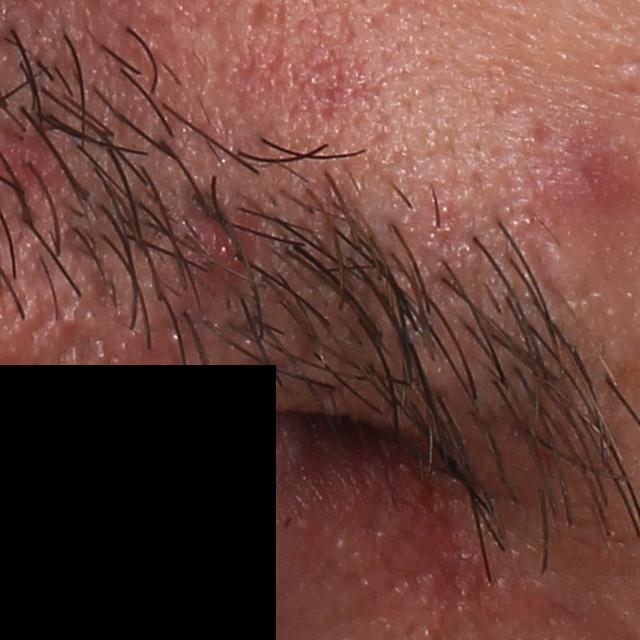papule: (540, 133, 622, 210), (438, 551, 494, 606)
